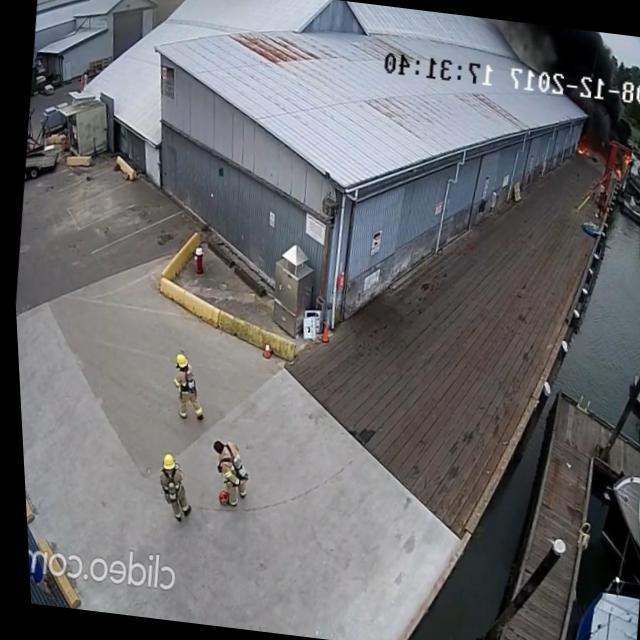fire: (609, 144, 634, 184), (572, 137, 598, 160)
